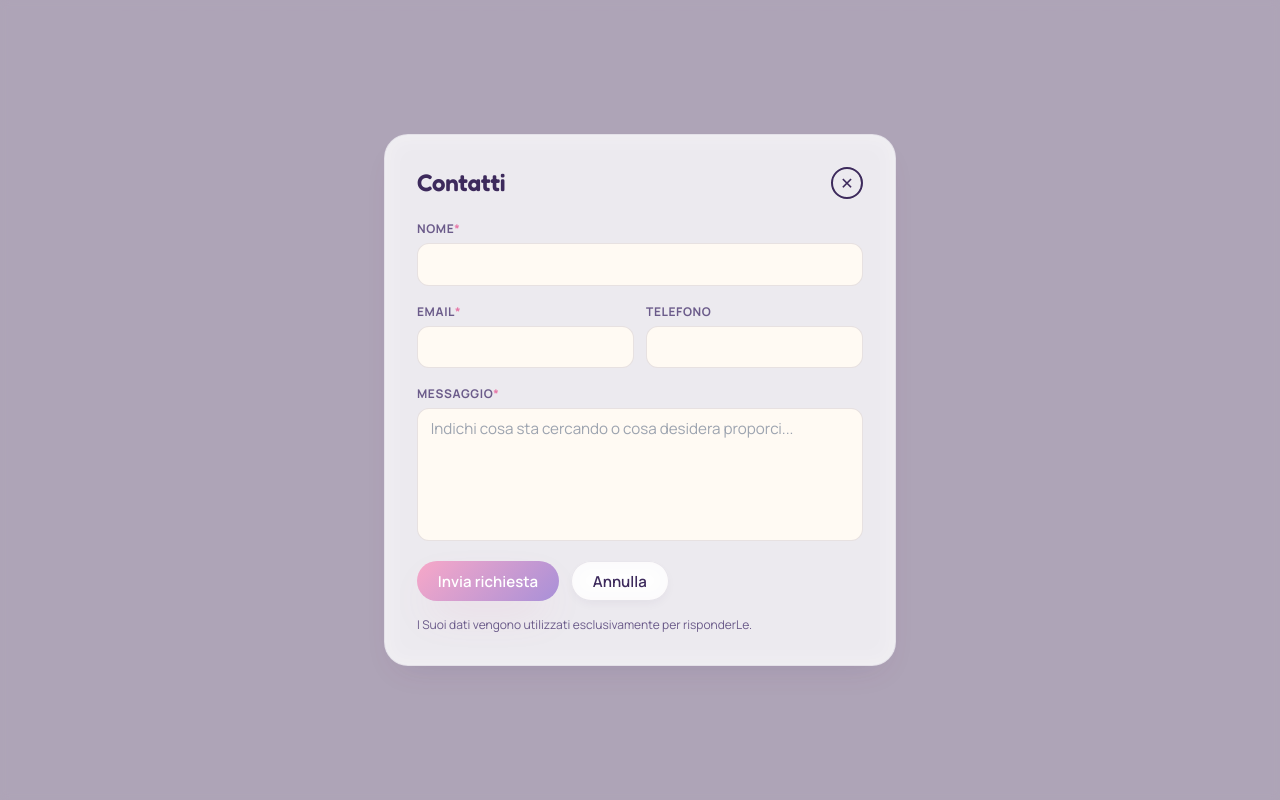
it: InquiryDialog › mostra schermata di successo dopo l'invio
Type "Anna" into the field labelled "Nome*" at point(640, 264), box [417,243,863,286]
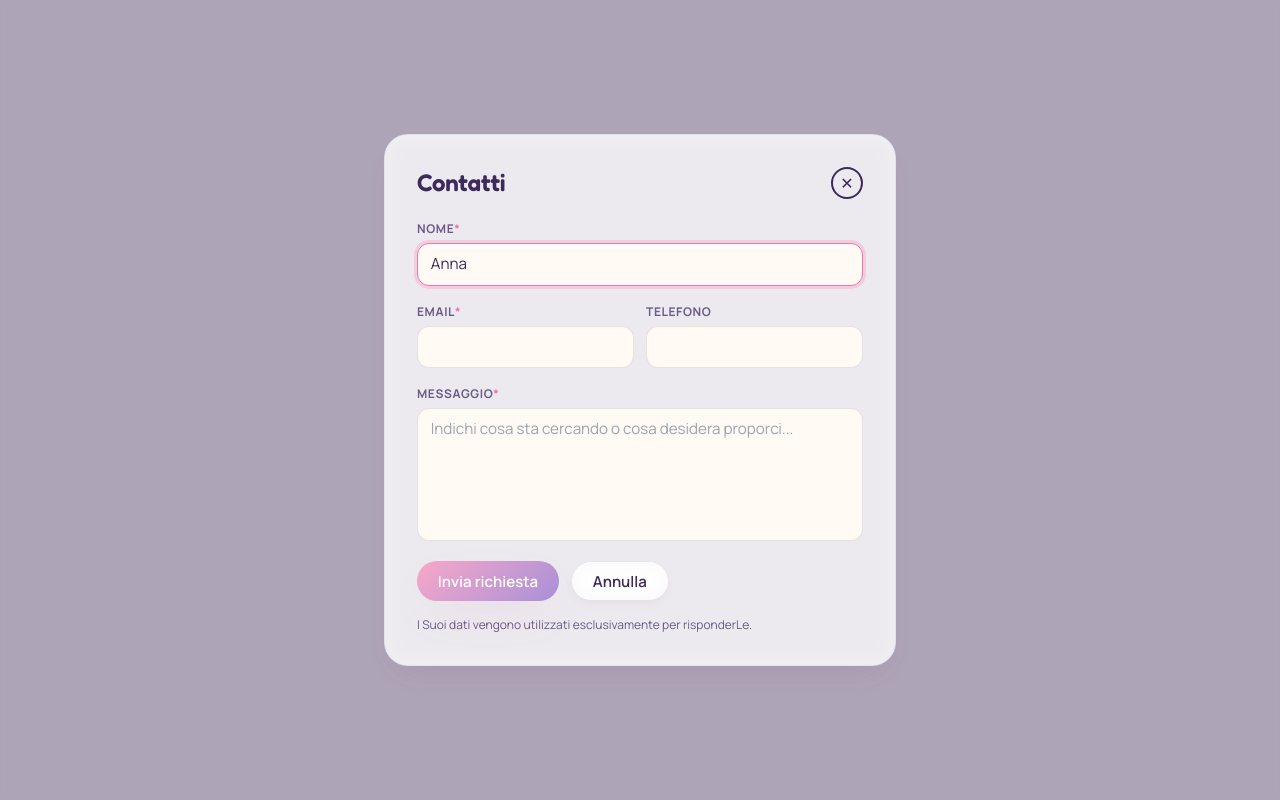
Type "anna@test.it" into the field labelled "Email*" at point(526, 347), box [417,326,634,368]
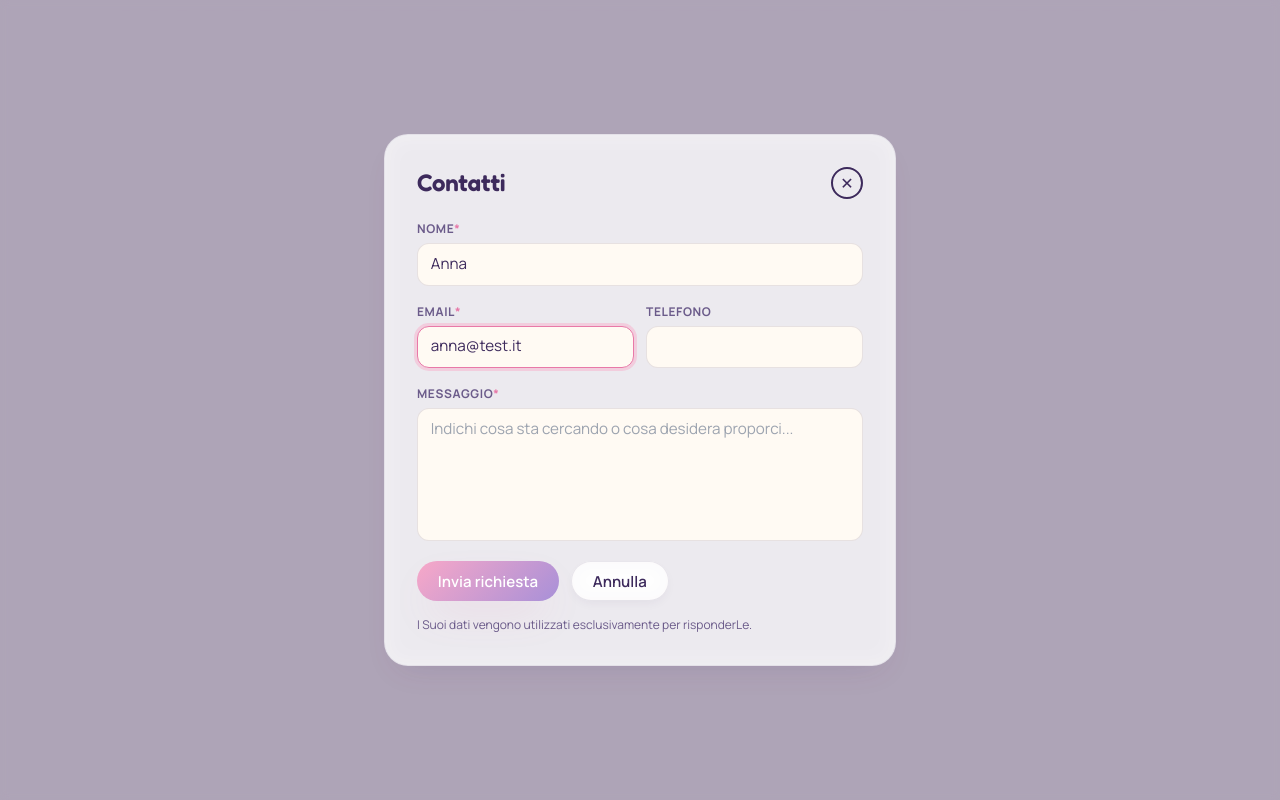
Type "ciao ciao test" into the text box labelled "Messaggio*" at point(640, 475), box [417,408,863,541]
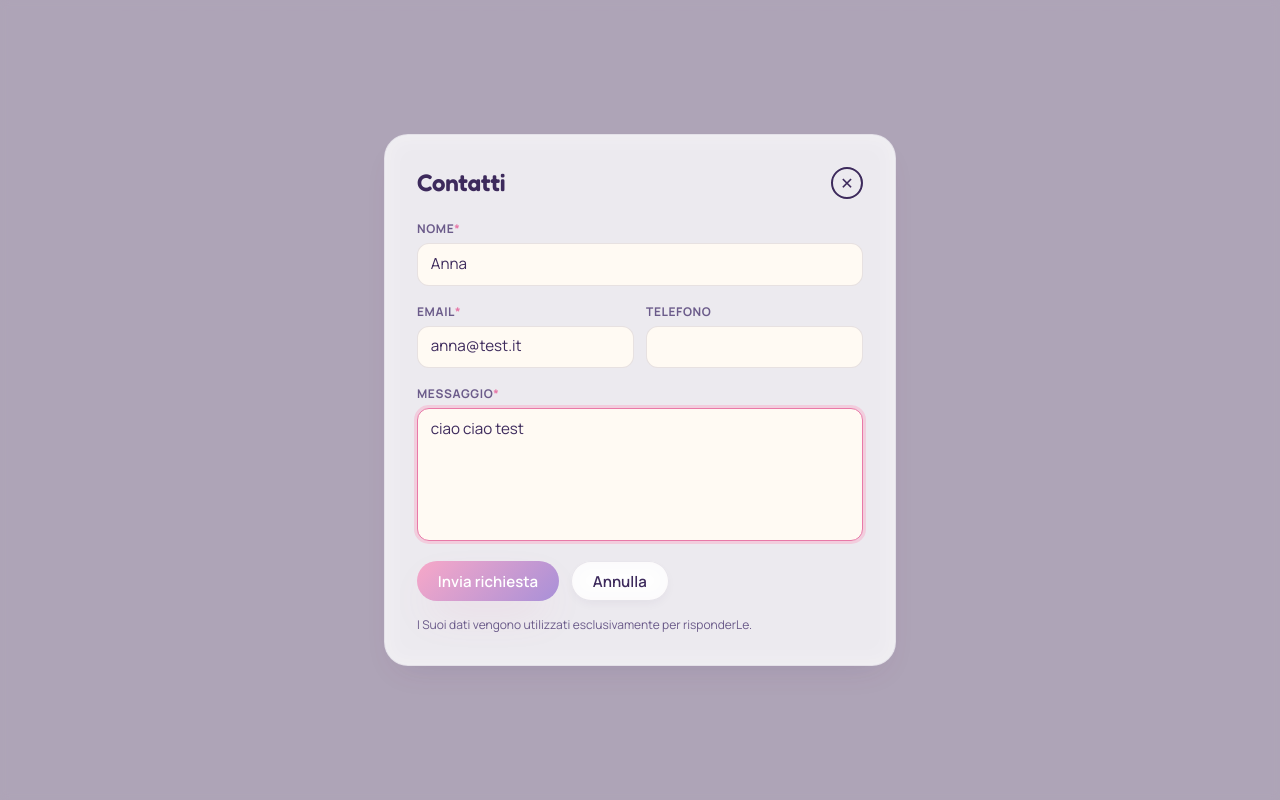
Click the button "Invia richiesta" at point(488, 581), box [417,561,559,601]
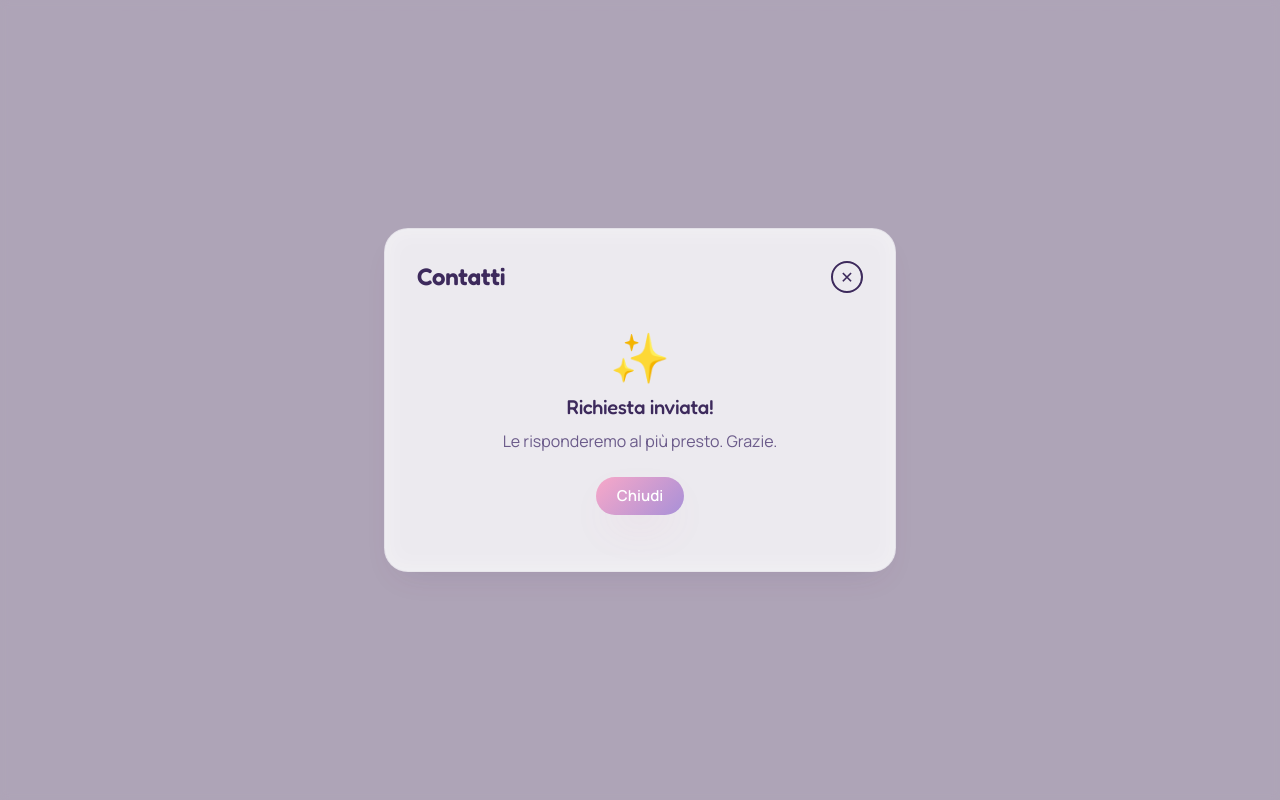
Result: the text "Richiesta inviata!" is shown at [567,395,713,419]
